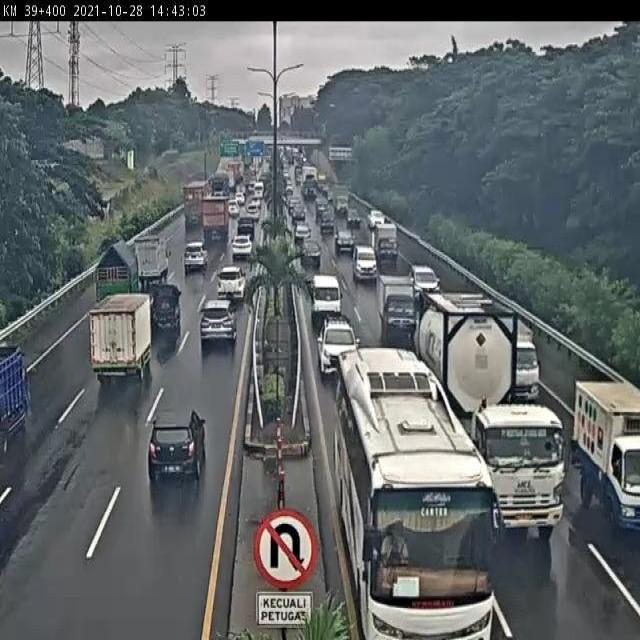car: (149, 410, 204, 482), (319, 317, 359, 383), (199, 297, 238, 347), (311, 275, 342, 331), (409, 264, 443, 307), (215, 266, 247, 298), (353, 245, 377, 287), (299, 239, 324, 272), (184, 242, 208, 274), (335, 230, 358, 262), (232, 231, 253, 256)
truck: (334, 345, 496, 640), (415, 296, 567, 539), (89, 289, 155, 391), (93, 239, 141, 309), (377, 272, 417, 337), (513, 320, 538, 401), (133, 232, 173, 281), (148, 284, 180, 332), (373, 223, 401, 267)
